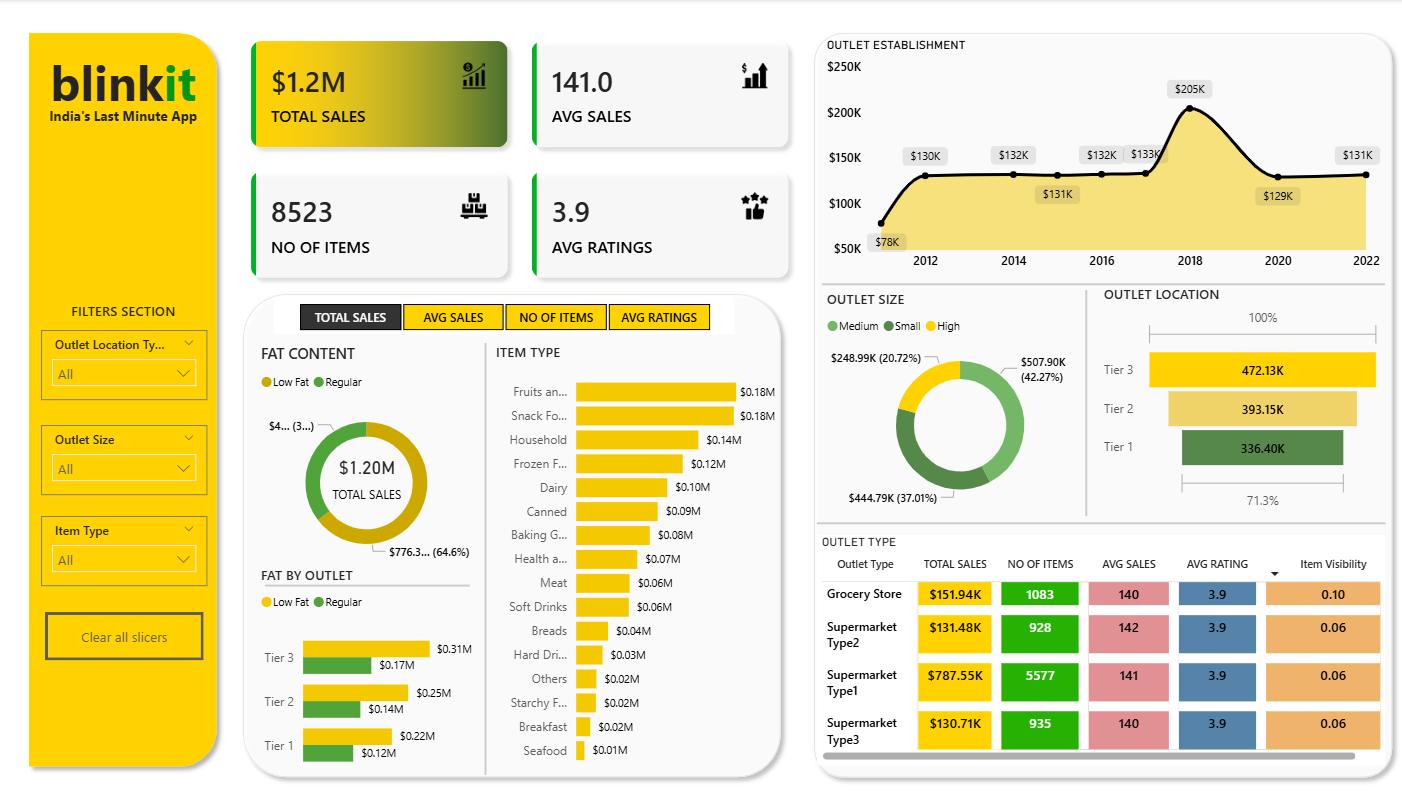

Layout of this report page (visuals, bound fields, positions):
{"tool":"powerbi","page":{"name":"Page 1","canvas":[1400,800],"ordinal":0},"visuals":[{"type":"shape","box":[22.3,24.5,205.3,750],"z":0},{"type":"textbox","box":[14.9,44.7,220.2,117],"z":1000},{"type":"textbox","box":[14.9,103.2,220.2,27.7],"z":2000},{"type":"cardVisual","fields":{"Data":["measure_.TOTAL SALES","measure_.AVG SALES","measure_.NO OF ITEMS","measure_.AVG RATINGS"]},"box":[235.1,24.5,570.2,270.2],"z":3000},{"type":"shape","box":[235.1,285.1,554.3,500],"z":4000},{"type":"slicer","fields":{"Values":["METRICS.METRICS"]},"box":[275.5,296.8,458.5,37.2],"z":5000},{"type":"donutChart","title":"FAT CONTENT","fields":{"Y":["measure_.TOTAL SALES"],"Category":["BlinkIT Grocery Data.Item Fat Content"]},"box":[257.4,343.6,220.2,231.9],"z":6000},{"type":"card","fields":{"Values":["measure_.TOTAL SALES"]},"box":[312.8,437.2,109.6,78.7],"z":7000},{"type":"clusteredBarChart","title":"FAT BY OUTLET","fields":{"Y":["measure_.TOTAL SALES"],"Category":["BlinkIT Grocery Data.Outlet Location Type"],"Series":["BlinkIT Grocery Data.Item Fat Content"]},"box":[257.4,566,220.2,219.1],"z":8000},{"type":"shape","box":[266,575.5,204.3,19.1],"z":9000},{"type":"shape","box":[477.7,343.6,17,430.9],"z":10000},{"type":"barChart","title":"ITEM TYPE","fields":{"Y":["measure_.TOTAL SALES"],"Category":["BlinkIT Grocery Data.Item Type"]},"box":[491.5,343.6,288.3,430.9],"z":11000},{"type":"shape","box":[805.3,24.5,594.7,760.6],"z":12000},{"type":"lineChart","title":"OUTLET ESTABLISHMENT","fields":{"Category":["BlinkIT Grocery Data.Outlet Establishment Year"],"Y":["measure_.TOTAL SALES"]},"box":[822.3,39.4,561.7,240.4],"z":13000},{"type":"shape","box":[822.3,272.3,561.7,24.5],"z":14000},{"type":"donutChart","title":"OUTLET SIZE","fields":{"Y":["measure_.TOTAL SALES"],"Category":["BlinkIT Grocery Data.Outlet Size"]},"box":[822.3,290.4,275.5,225.5],"z":15000},{"type":"funnel","title":"OUTLET LOCATION","fields":{"Category":["BlinkIT Grocery Data.Outlet Location Type"],"Y":["Sum(BlinkIT Grocery Data.Sales)"]},"box":[1097.9,285.1,286.2,229.8],"z":15001},{"type":"shape","box":[1073.4,290.4,24.5,225.5],"z":15002},{"type":"pivotTable","title":"OUTLET TYPE","fields":{"Rows":["BlinkIT Grocery Data.Outlet Type"],"Values":["measure_.TOTAL SALES","measure_.NO OF ITEMS","measure_.AVG SALES","measure_.AVG RATINGS","Avg(BlinkIT Grocery Data.Item Visibility)"]},"box":[817,535.1,567,229.8],"z":15003},{"type":"shape","box":[817,510.6,567,24.5],"z":15004},{"type":"slicer","fields":{"Values":["BlinkIT Grocery Data.Outlet Location Type"]},"box":[42.6,329.8,166,70.2],"z":15005},{"type":"slicer","fields":{"Values":["BlinkIT Grocery Data.Outlet Size"]},"box":[42.6,424.5,166,70.2],"z":15006},{"type":"slicer","fields":{"Values":["BlinkIT Grocery Data.Item Type"]},"box":[42.6,516,166,70.2],"z":15007},{"type":"textbox","box":[55.3,296.8,140.4,30.9],"z":15008},{"type":"actionButton","box":[47,611.9,158.5,48.4],"z":15011}]}

Visuals, with their boxes in screenshot pixels (x1, y1, x2, y2), scaled from the page's 1400x800 canvas onto the 1402x799 screenshot:
shape: region(22, 24, 228, 774)
textbox: region(15, 45, 235, 161)
textbox: region(15, 103, 235, 131)
cardVisual - measure_.TOTAL SALES x measure_.AVG SALES: region(235, 24, 806, 294)
shape: region(235, 285, 791, 784)
slicer - METRICS.METRICS: region(276, 296, 735, 334)
"FAT CONTENT" donutChart: region(258, 343, 478, 575)
card - measure_.TOTAL SALES: region(313, 437, 423, 515)
"FAT BY OUTLET" clusteredBarChart: region(258, 565, 478, 784)
shape: region(266, 575, 471, 594)
shape: region(478, 343, 495, 774)
"ITEM TYPE" barChart: region(492, 343, 781, 774)
shape: region(806, 24, 1401, 784)
"OUTLET ESTABLISHMENT" lineChart: region(823, 39, 1386, 279)
shape: region(823, 272, 1386, 296)
"OUTLET SIZE" donutChart: region(823, 290, 1099, 515)
"OUTLET LOCATION" funnel: region(1099, 285, 1386, 514)
shape: region(1075, 290, 1099, 515)
"OUTLET TYPE" pivotTable: region(818, 534, 1386, 764)
shape: region(818, 510, 1386, 534)
slicer - BlinkIT Grocery Data.Outlet Location Type: region(43, 329, 209, 400)
slicer - BlinkIT Grocery Data.Outlet Size: region(43, 424, 209, 494)
slicer - BlinkIT Grocery Data.Item Type: region(43, 515, 209, 585)
textbox: region(55, 296, 196, 327)
actionButton: region(47, 611, 206, 659)
